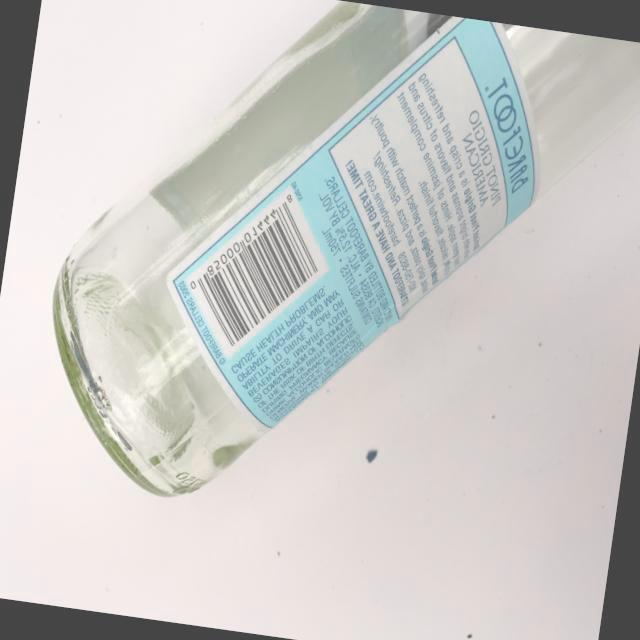glass: (10, 0, 640, 579)
